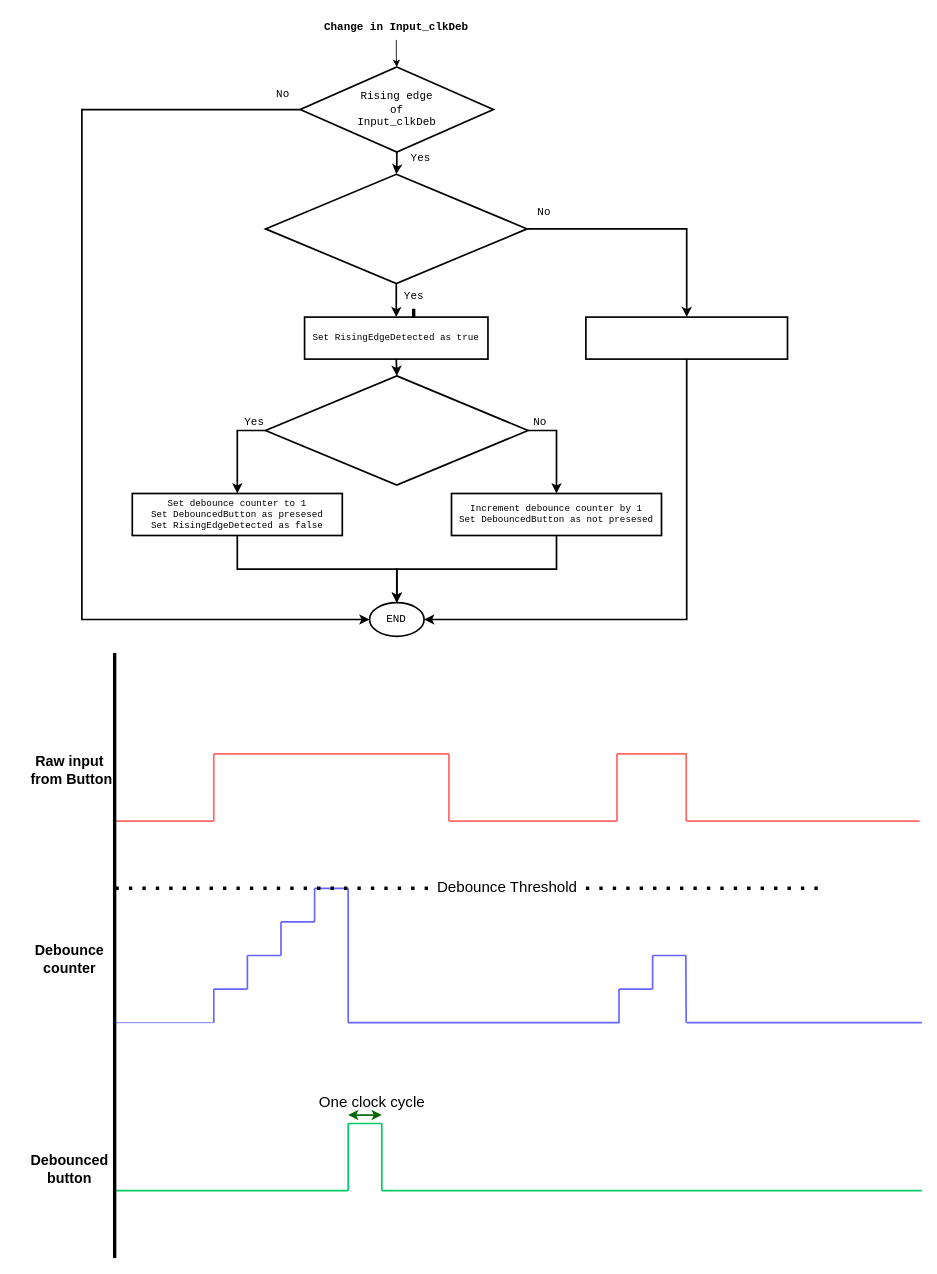
This 937x1274 diagram has some shape labels left out. Each missing label, with the centre of its shape:
"Check for rising edge of button or Is RisingEdgeDetected true" belongs at pixel 396 228.
"Is debounce counter equal to debounce time required?" belongs at pixel 396 430.
"Set debounce counter to 0 Set DebouncedButton as not presesed" belongs at pixel 686 338.
